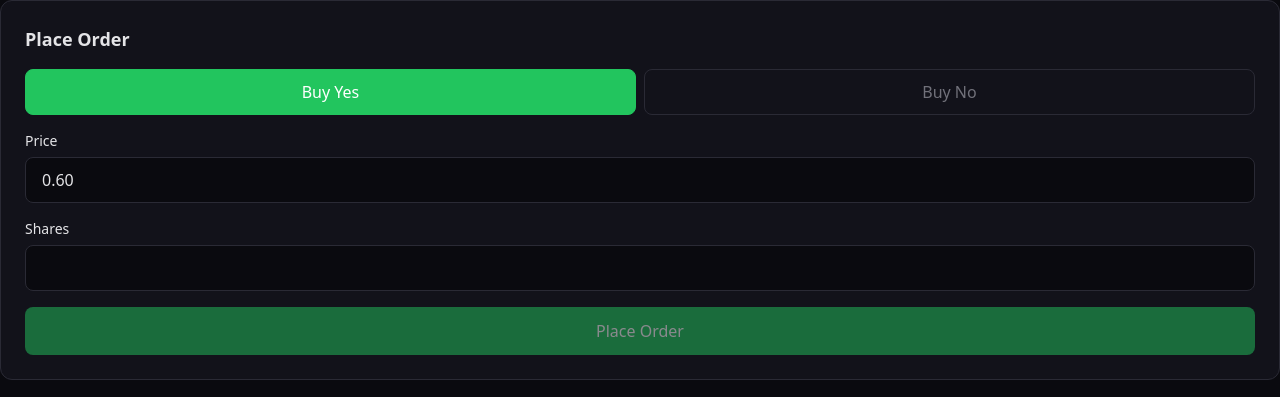
Test: TradePanel › should switch price when toggling side
Click the button "Buy No" at (950, 92), box [644,69,1255,115]
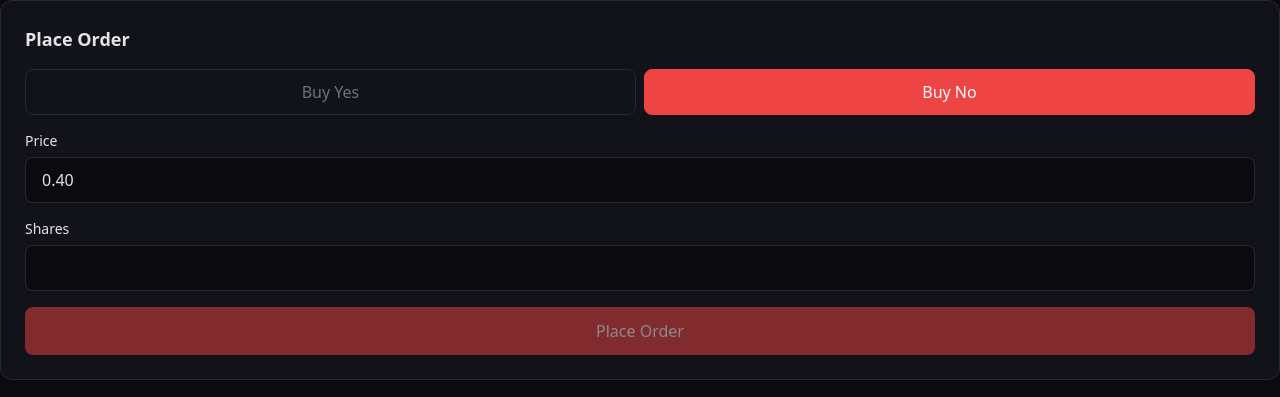
Expected: the number field labelled "Price" holds "0.40", [25,157,1255,203]
